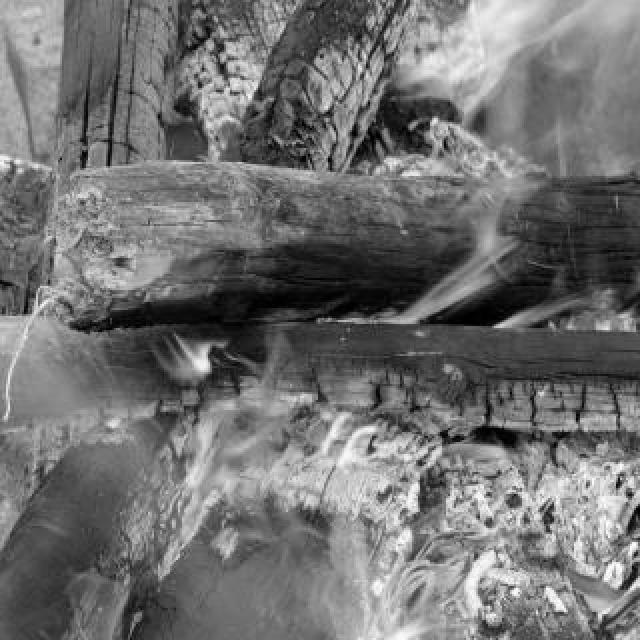Fire: (400, 0, 640, 370), (247, 493, 478, 639), (144, 324, 386, 456)
